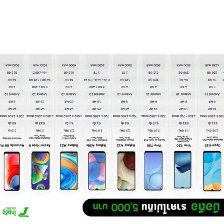phone: (142, 148, 165, 194), (116, 148, 139, 193), (85, 150, 108, 194), (201, 149, 223, 194), (29, 150, 52, 192), (171, 148, 192, 191), (0, 150, 21, 192), (59, 149, 79, 192)
